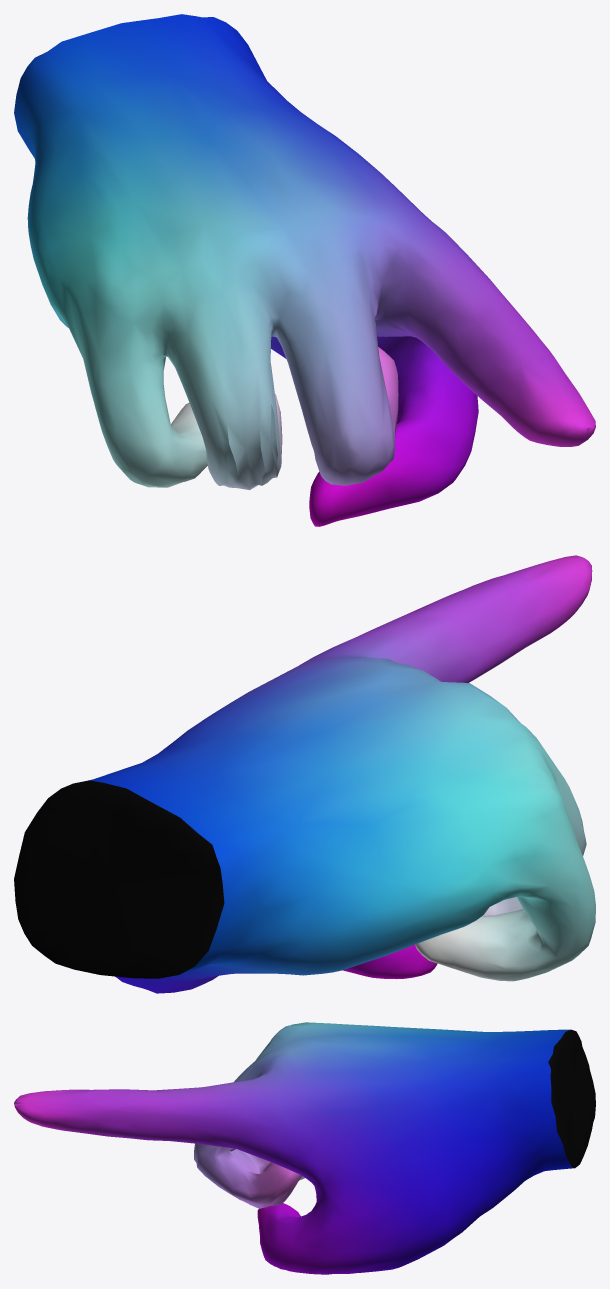
File: Hand.fbx
The picture shows the model from 3 angles, top to bottom: view 1: azimuth 30°, elevation 25°; view 2: azimuth 150°, elevation 25°; view 3: azimuth 270°, elevation 25°; orthographic projection. The views are drawn at different scales.
Parts seen in each view (by area): view 1: hands:Rhand.001; view 2: hands:Rhand.001; view 3: hands:Rhand.001.
Part boxes in pixels (x1=…): hands:Rhand.001: x1=14, y1=14, x2=595, y2=526; hands:Rhand.001: x1=14, y1=555, x2=595, y2=993; hands:Rhand.001: x1=14, y1=1022, x2=595, y2=1274.
Size of the model in its own units: 9.9 by 7.86 by 20.03.
